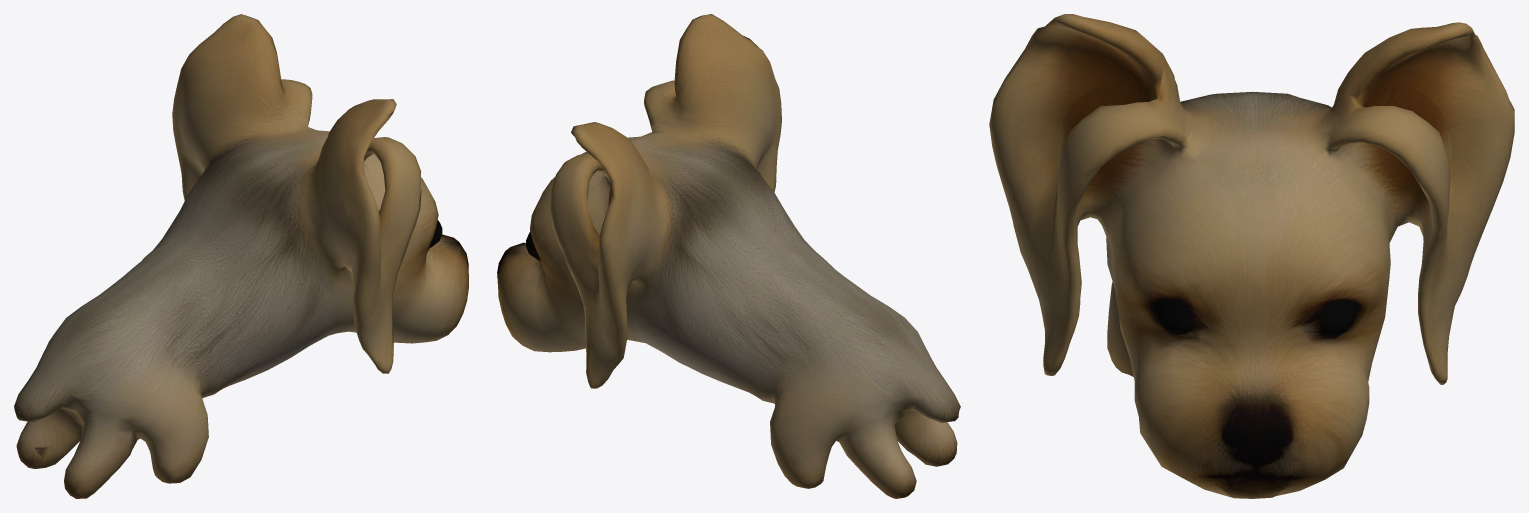
File: character_model.glb
The picture shows the model from 3 angles, left to right: view 1: azimuth 30°, elevation 25°; view 2: azimuth 150°, elevation 25°; view 3: azimuth 270°, elevation 25°; orthographic projection. The views are drawn at different scales.
Visible parts, largest first — view 1: tripo_node_bda8a6a7-45b5-4b88-a5eb-fd95321d9444; view 2: tripo_node_bda8a6a7-45b5-4b88-a5eb-fd95321d9444; view 3: tripo_node_bda8a6a7-45b5-4b88-a5eb-fd95321d9444.
Part boxes in pixels (x1=…): tripo_node_bda8a6a7-45b5-4b88-a5eb-fd95321d9444: x1=14, y1=14, x2=468, y2=498; tripo_node_bda8a6a7-45b5-4b88-a5eb-fd95321d9444: x1=497, y1=14, x2=960, y2=498; tripo_node_bda8a6a7-45b5-4b88-a5eb-fd95321d9444: x1=989, y1=14, x2=1514, y2=498.
Size of the model in its own units: 0.9995 by 0.7589 by 0.7218.
1 material, 1 textured.
